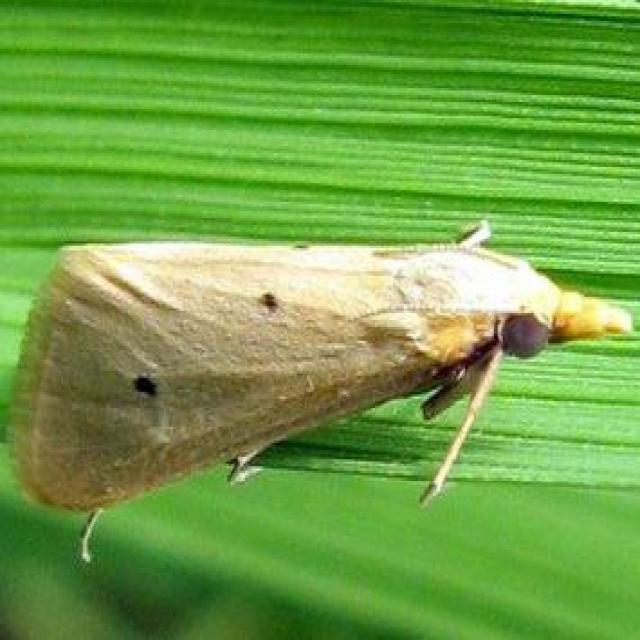yellow-stem-borer: (1, 161, 633, 547)
